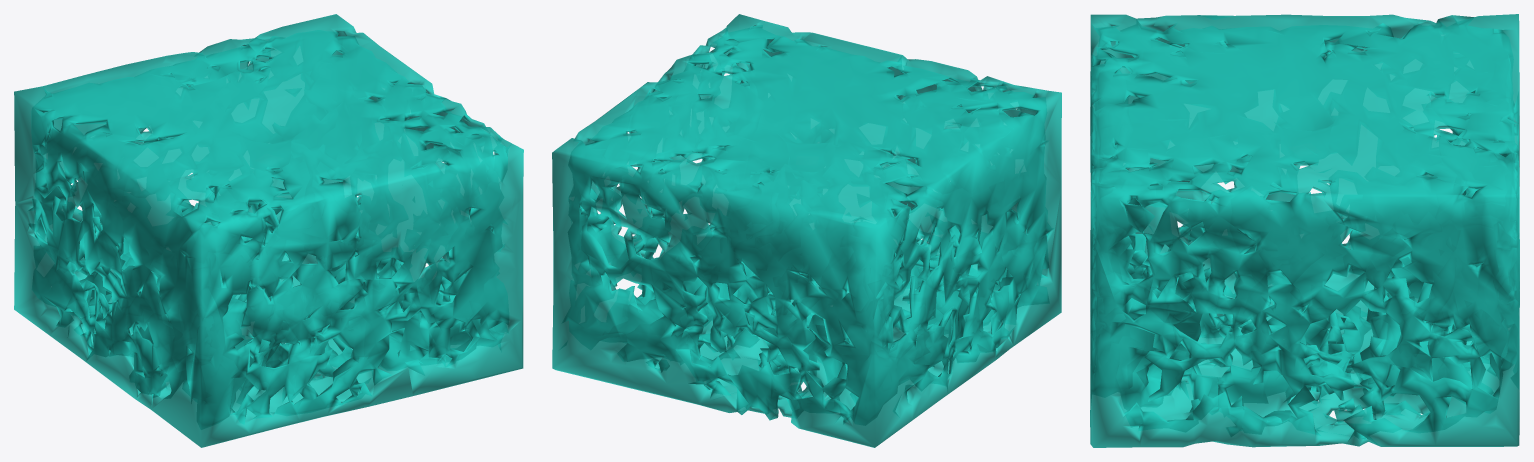
3 views of the same model, side by side, from view 1: azimuth 30°, elevation 25°; view 2: azimuth 150°, elevation 25°; view 3: azimuth 270°, elevation 25° (orthographic). The views are drawn at different scales.
Parts seen in each view (by area): view 1: Liquid_Domain; view 2: Liquid_Domain; view 3: Liquid_Domain.
Boxes of the visible parts, <box> form: Liquid_Domain: <box>14,14,523,447</box>; Liquid_Domain: <box>552,14,1061,447</box>; Liquid_Domain: <box>1090,14,1519,447</box>.
Bounding box in the file's own units: 391 × 254 × 392.
